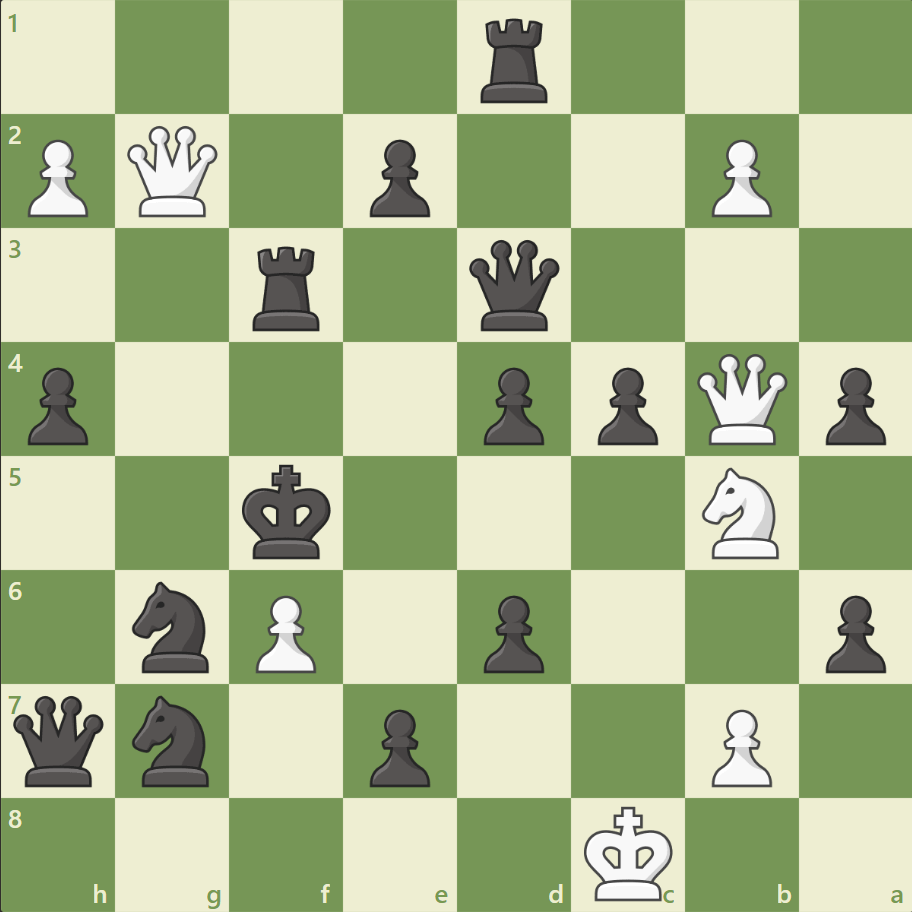K: (579, 798, 679, 906)
N: (692, 461, 789, 564)
P: (701, 700, 776, 791), (247, 586, 322, 677), (701, 132, 776, 223), (20, 132, 95, 223)
Q: (691, 349, 790, 449), (124, 122, 223, 222)
k: (238, 458, 338, 566)
n: (124, 688, 222, 791), (124, 575, 222, 677)
p: (474, 586, 549, 677), (474, 359, 549, 450), (20, 359, 95, 450), (361, 700, 435, 791), (815, 586, 889, 677), (815, 359, 889, 450), (588, 359, 662, 450), (361, 132, 435, 223)
q: (10, 690, 109, 789), (464, 236, 563, 335)
r: (246, 239, 329, 336), (473, 12, 556, 109)
